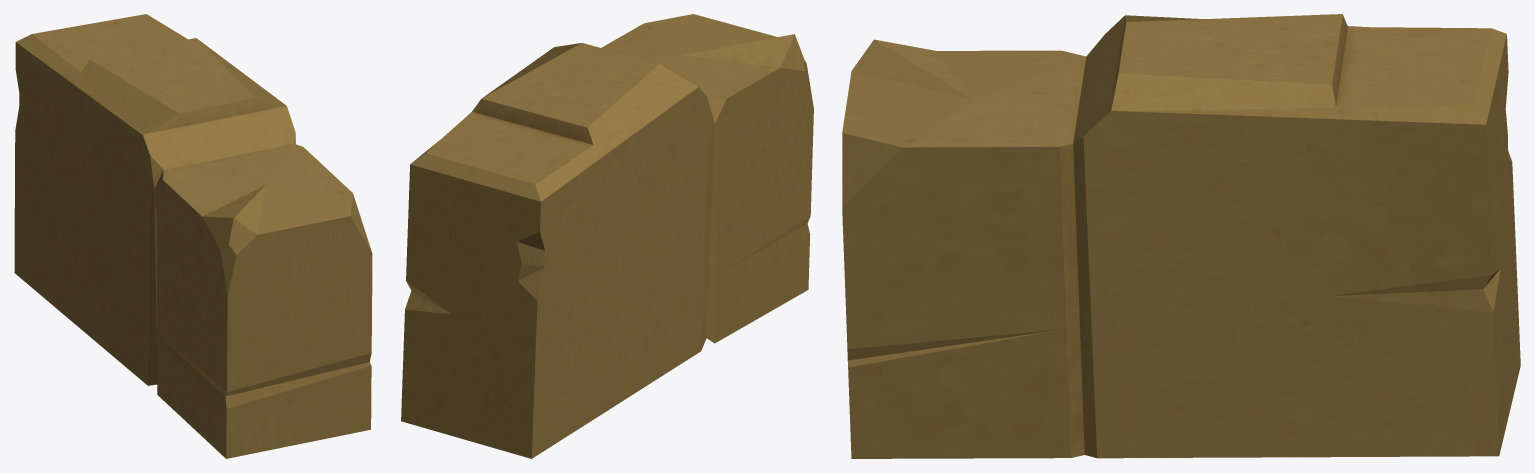
File: Tunisia_Wall_B.fbx
3 views of the same model, side by side, from view 1: azimuth 30°, elevation 25°; view 2: azimuth 150°, elevation 25°; view 3: azimuth 270°, elevation 25° (orthographic). The views are drawn at different scales.
Parts seen in each view (by area): view 1: Tunisia_Wall_B; view 2: Tunisia_Wall_B; view 3: Tunisia_Wall_B.
Part boxes in pixels (<box>): Tunisia_Wall_B: <box>14,14,372,458</box>; Tunisia_Wall_B: <box>401,14,813,458</box>; Tunisia_Wall_B: <box>842,14,1520,458</box>.
Size of the model in its own units: 139 by 231 by 381.
